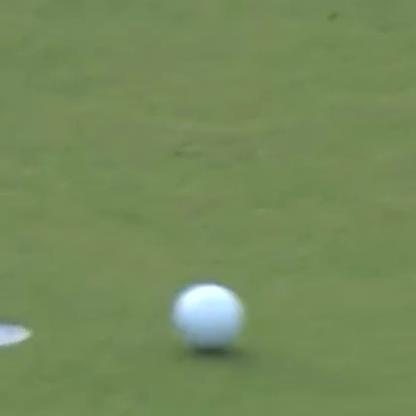golfball: (172, 281, 243, 351)
